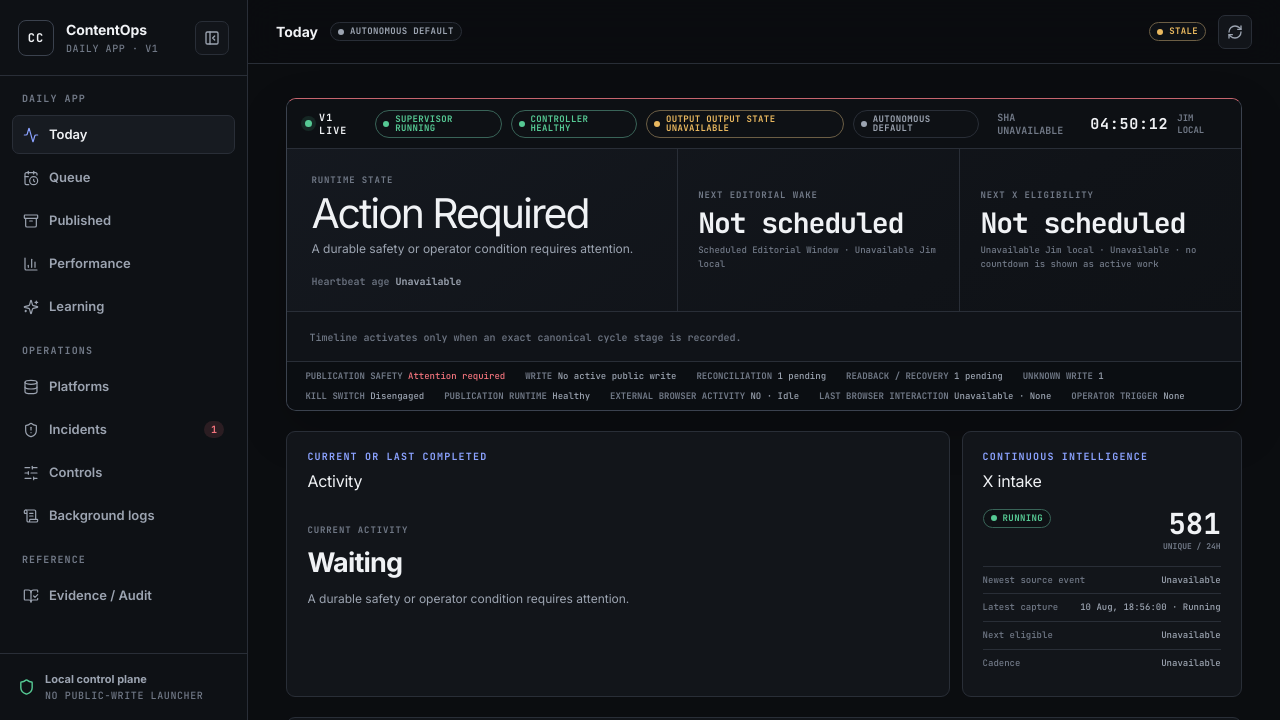
Test: Final Daily App production console › preserves exact safe destination identity while showing readiness evidence
This screenshot has width=1280, height=720.
Click the button "Platforms": (124, 386) [12,367,235,406]
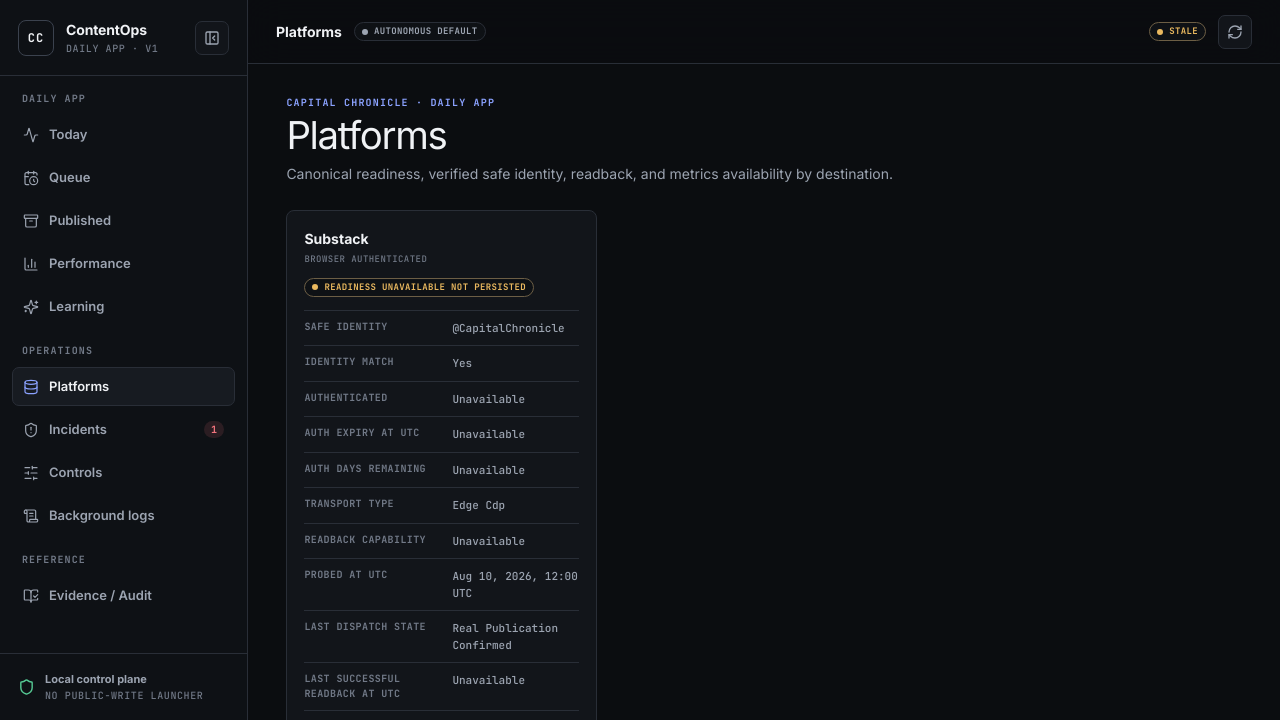
expect the text "Canonical readiness, verified safe identity" is shown: met, box [286,165,893,182]
expect the text "@CapitalChronicle" is shown: met, box [452,320,579,336]
expect the text "Yes" is shown: met, box [452,356,472,370]
